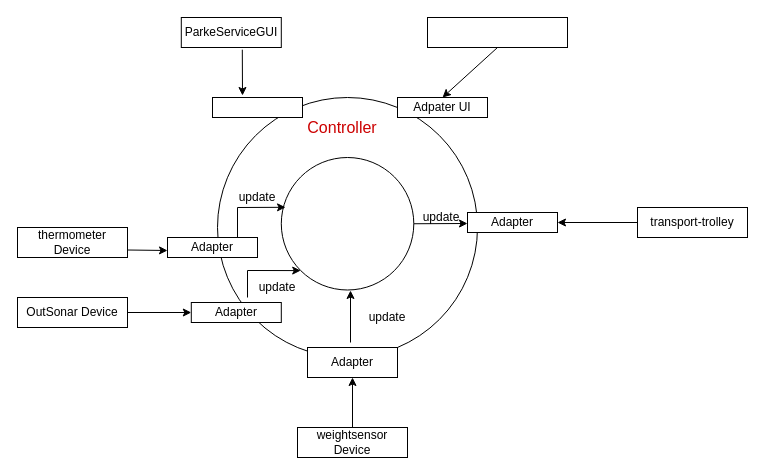
Image size: 765x475. Some labels were removed from this diagram. Here are the shapes that lost their labels. From the top down, the centre of each, then its label:
At (497,32): "ParkeServiceStatusGUI".
At (257,107): "Adapter UI".
At (347,223): "Outsonar, transport-trolley, weightsensor, thermometer,".
